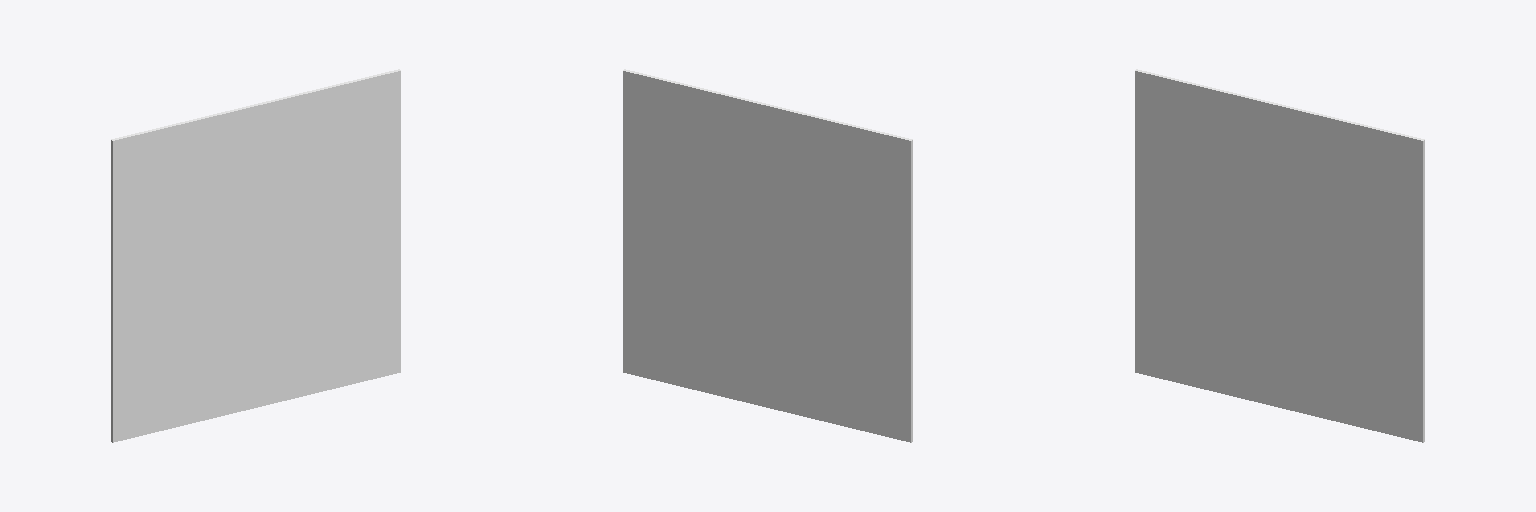
The model's file is Poster_Horror.obj.
3 views of the same model, side by side, from view 1: azimuth 30°, elevation 25°; view 2: azimuth 150°, elevation 25°; view 3: azimuth 330°, elevation 25° (orthographic).
Size of the model in its own units: 80 by 80 by 1.